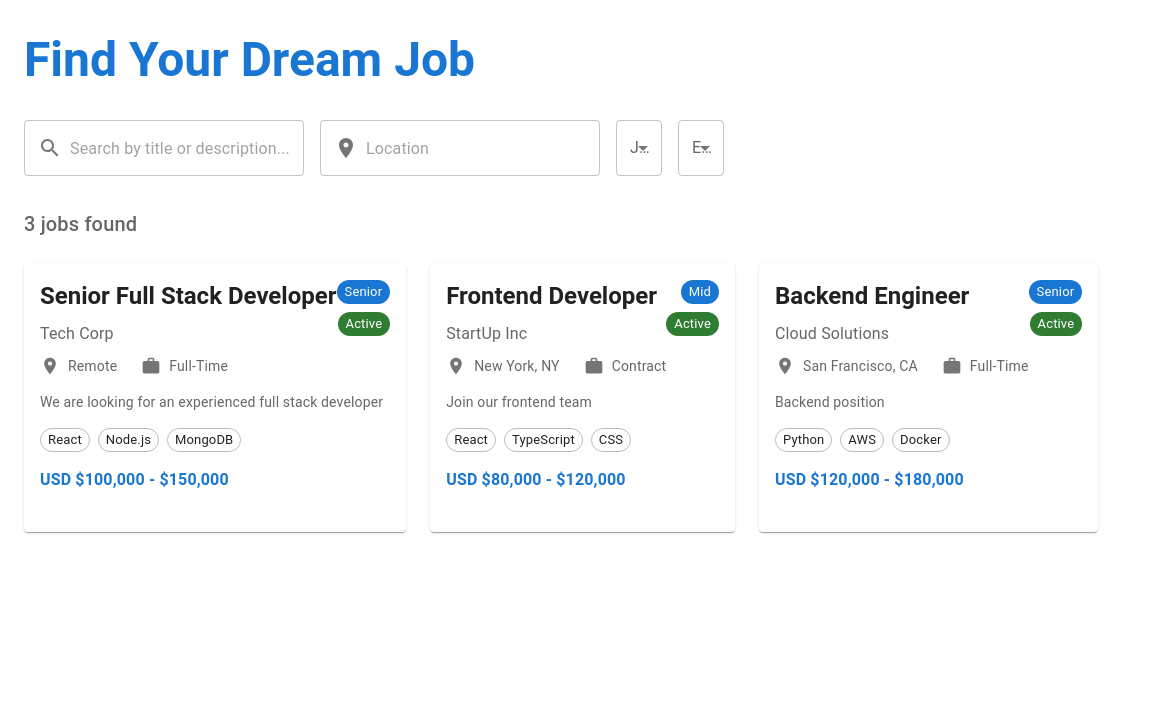
Scenario: JobListings Component › filters jobs by search term - job title
Check: the heading "Senior Full Stack Developer" is shown, box [40, 280, 336, 312]
Type "Frontend" into the field with placeholder "Search by title or description..." at (187, 148), box [70, 120, 304, 176]
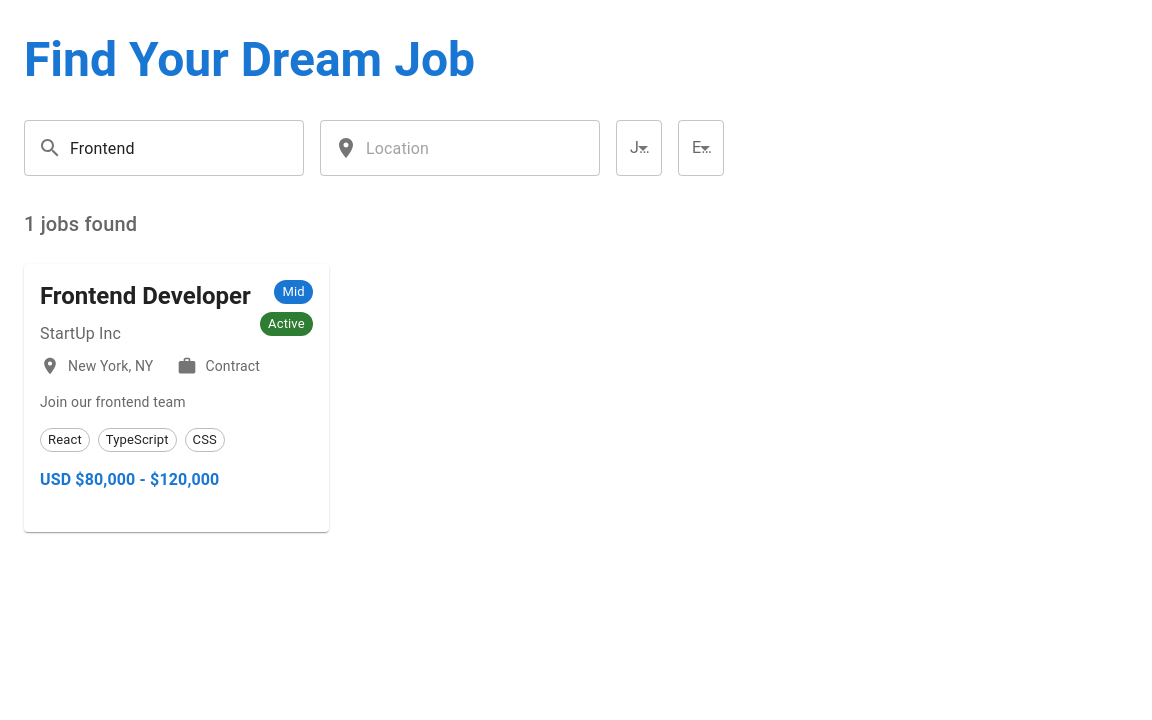
Check: the heading "Frontend Developer" is shown, box [40, 280, 251, 312]
Check: the heading "Senior Full Stack Developer" is gone
Check: the heading "Backend Engineer" is gone
